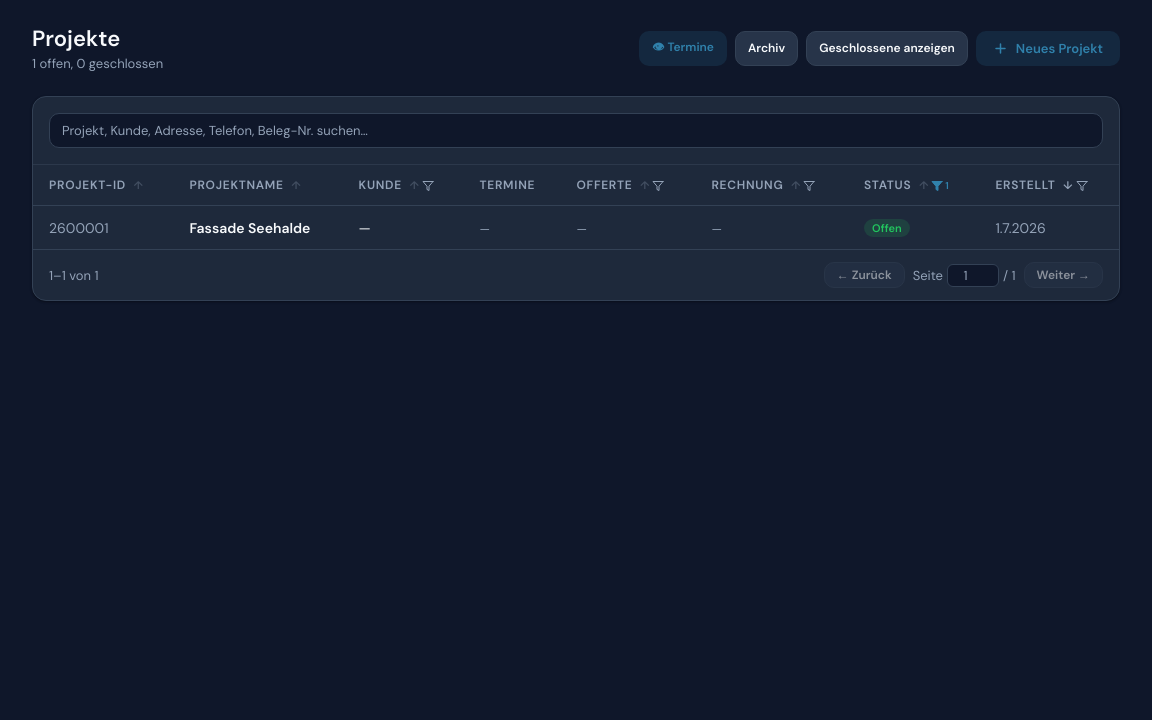
Test case: ProjectsScreen — bestehendes Projekt speichert selbst › fragt beim Zurück nach, wenn das Speichern scheitert — «Abbrechen» bleibt mit den Eingaben
Click the text "Fassade Seehalde": (250, 228) [189, 218, 310, 236]
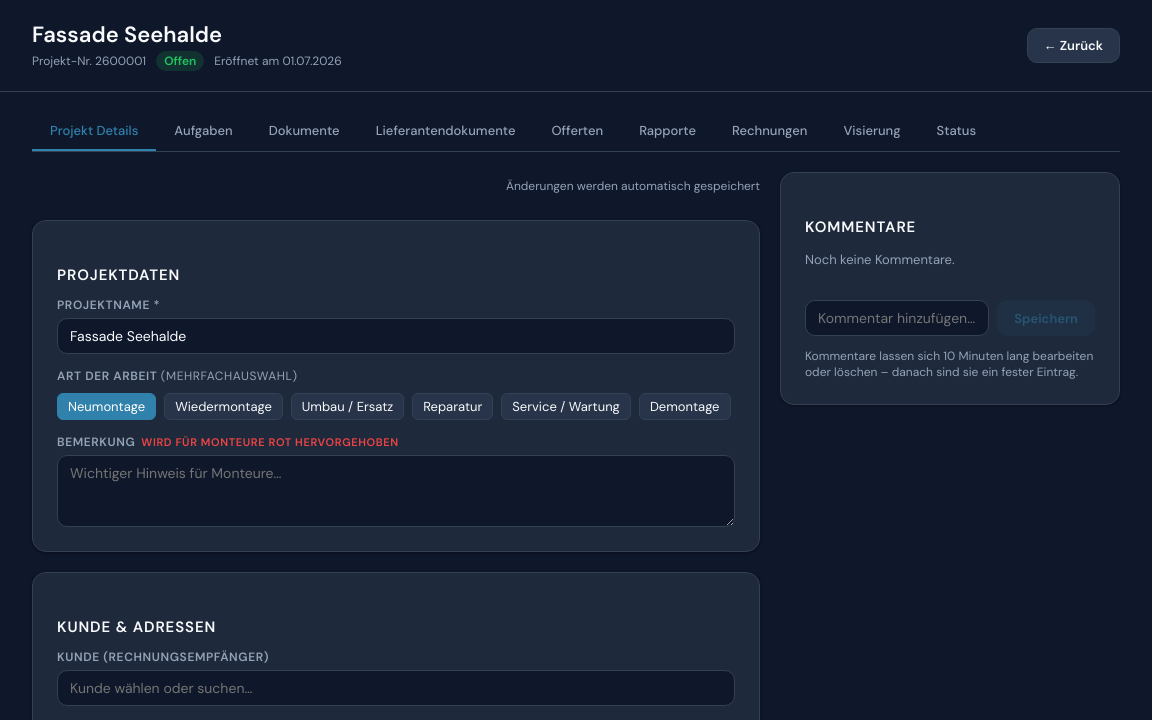
In the field labelled "Projektname *": (396, 336) [57, 318, 735, 354], type " Etappe 2"
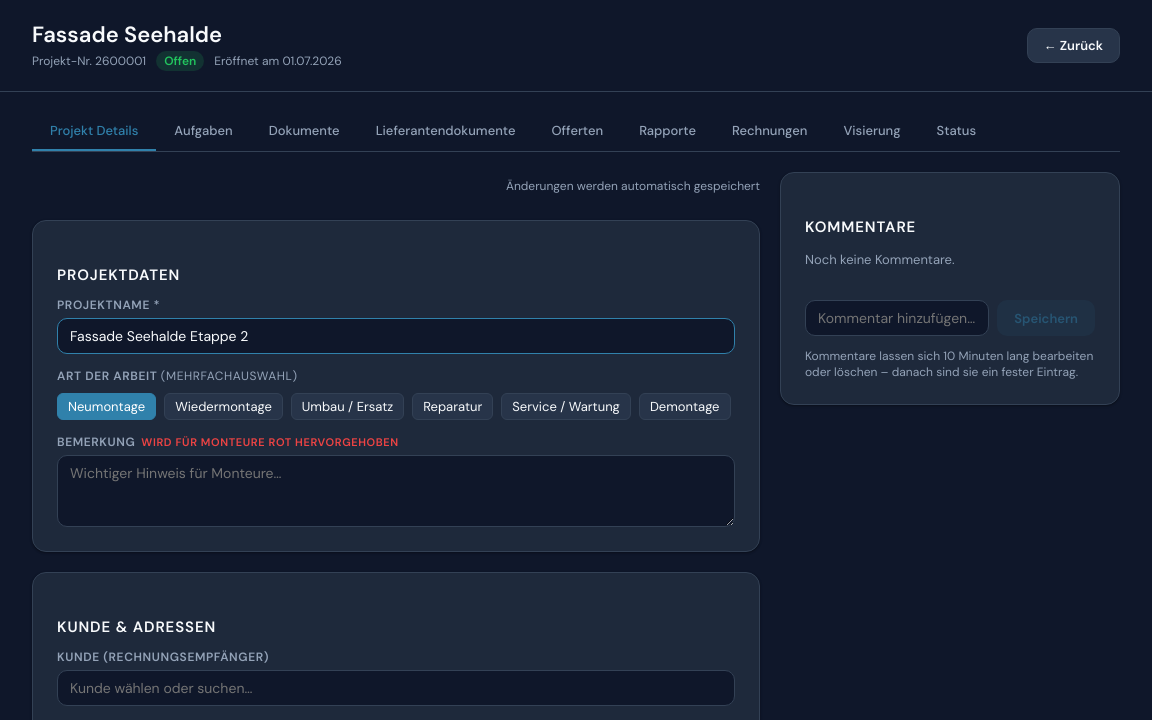
Click the button "← Zurück": (1073, 46) [1027, 28, 1120, 63]
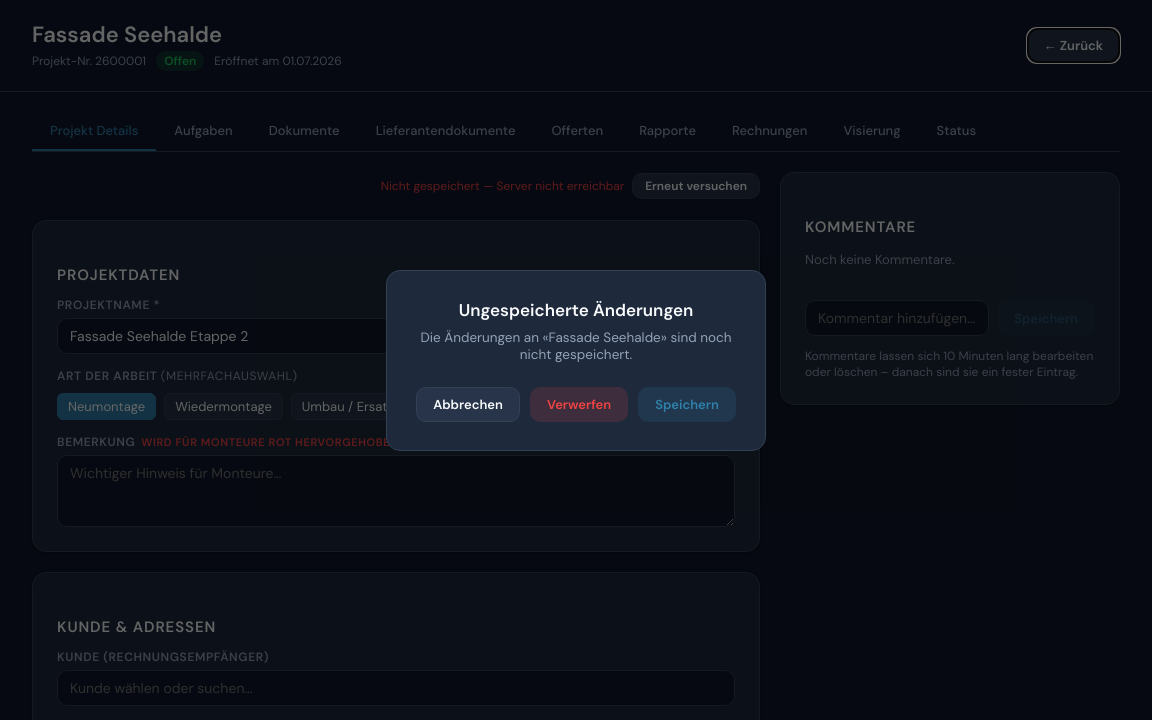
Click the button "Abbrechen": (468, 404) [416, 386, 520, 422]
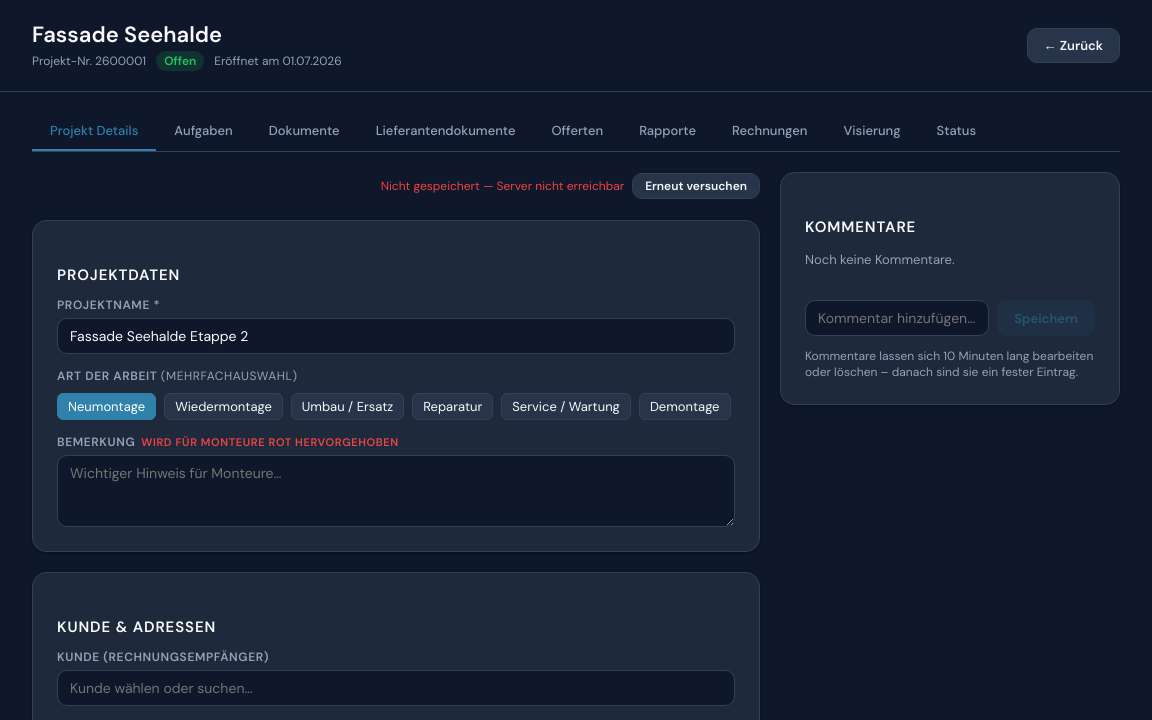
Check: the field showing "Fassade Seehalde Etappe 2" is shown, box [57, 318, 735, 354]
Check: the message shows "Nicht gespeichert", box [381, 178, 480, 194]
Check: the text "Ungespeicherte Änderungen" is gone
